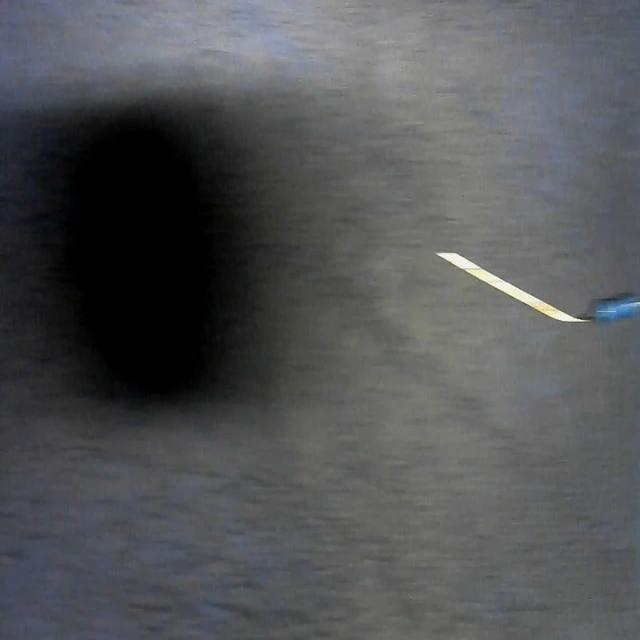resistor: (467, 274, 640, 322)
